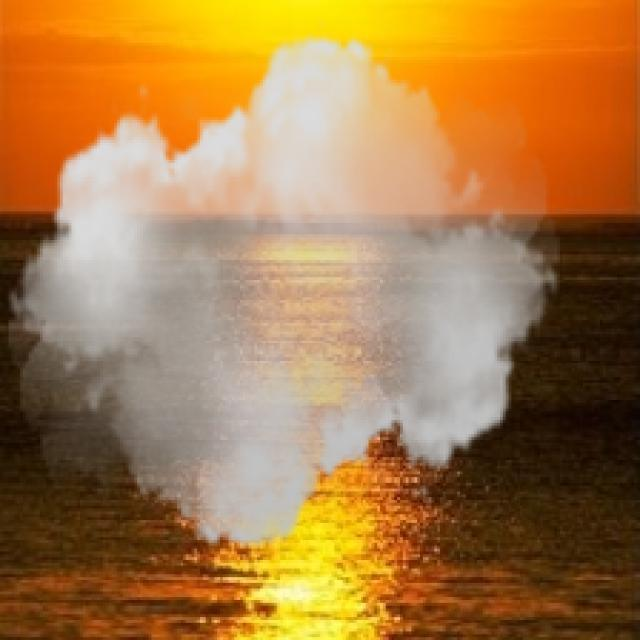Smoke: (8, 14, 560, 569)
